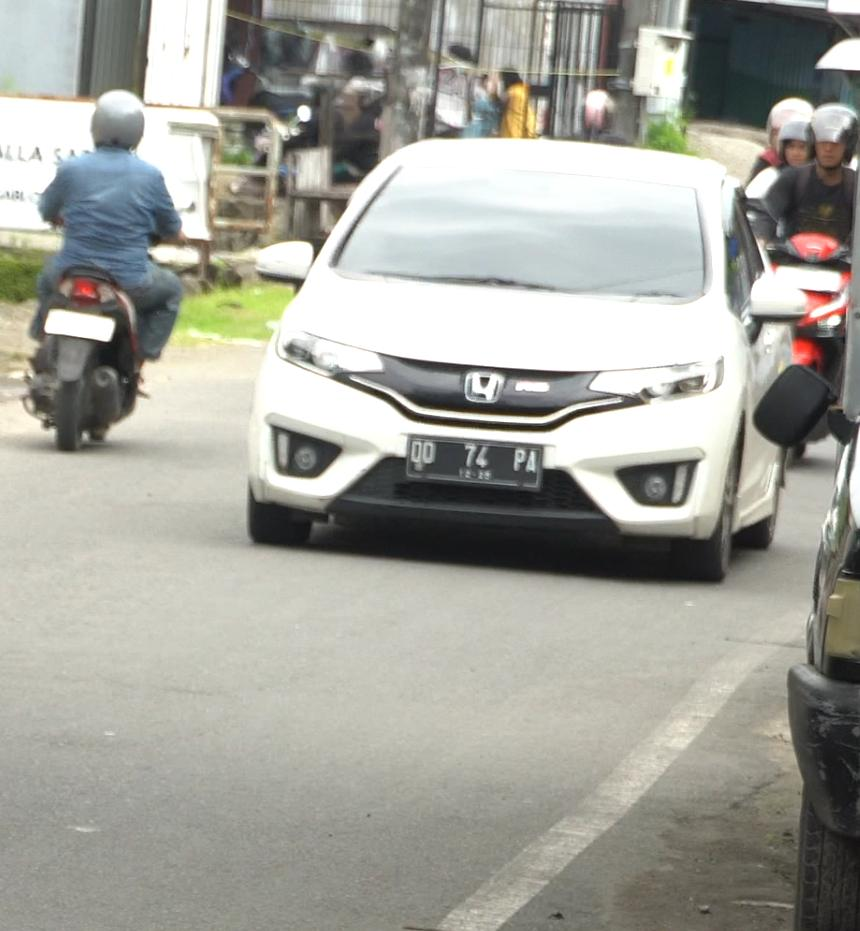number-plate: (403, 433, 551, 493)
